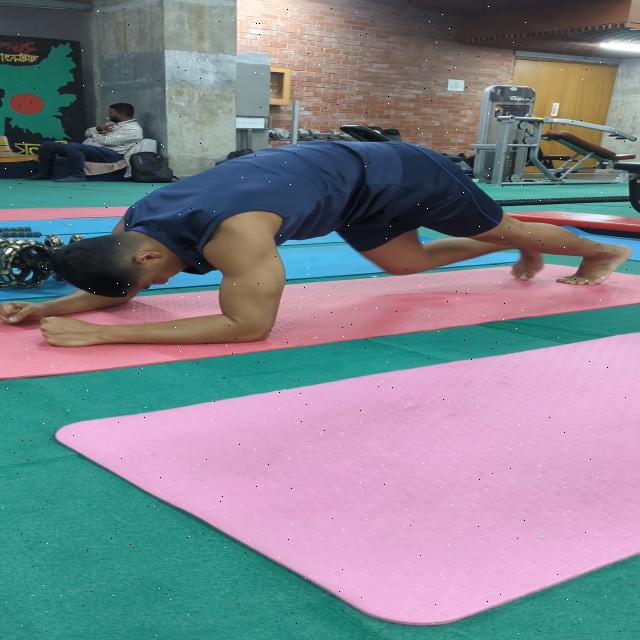Normal_MountainClimbers: (0, 138, 627, 358)
